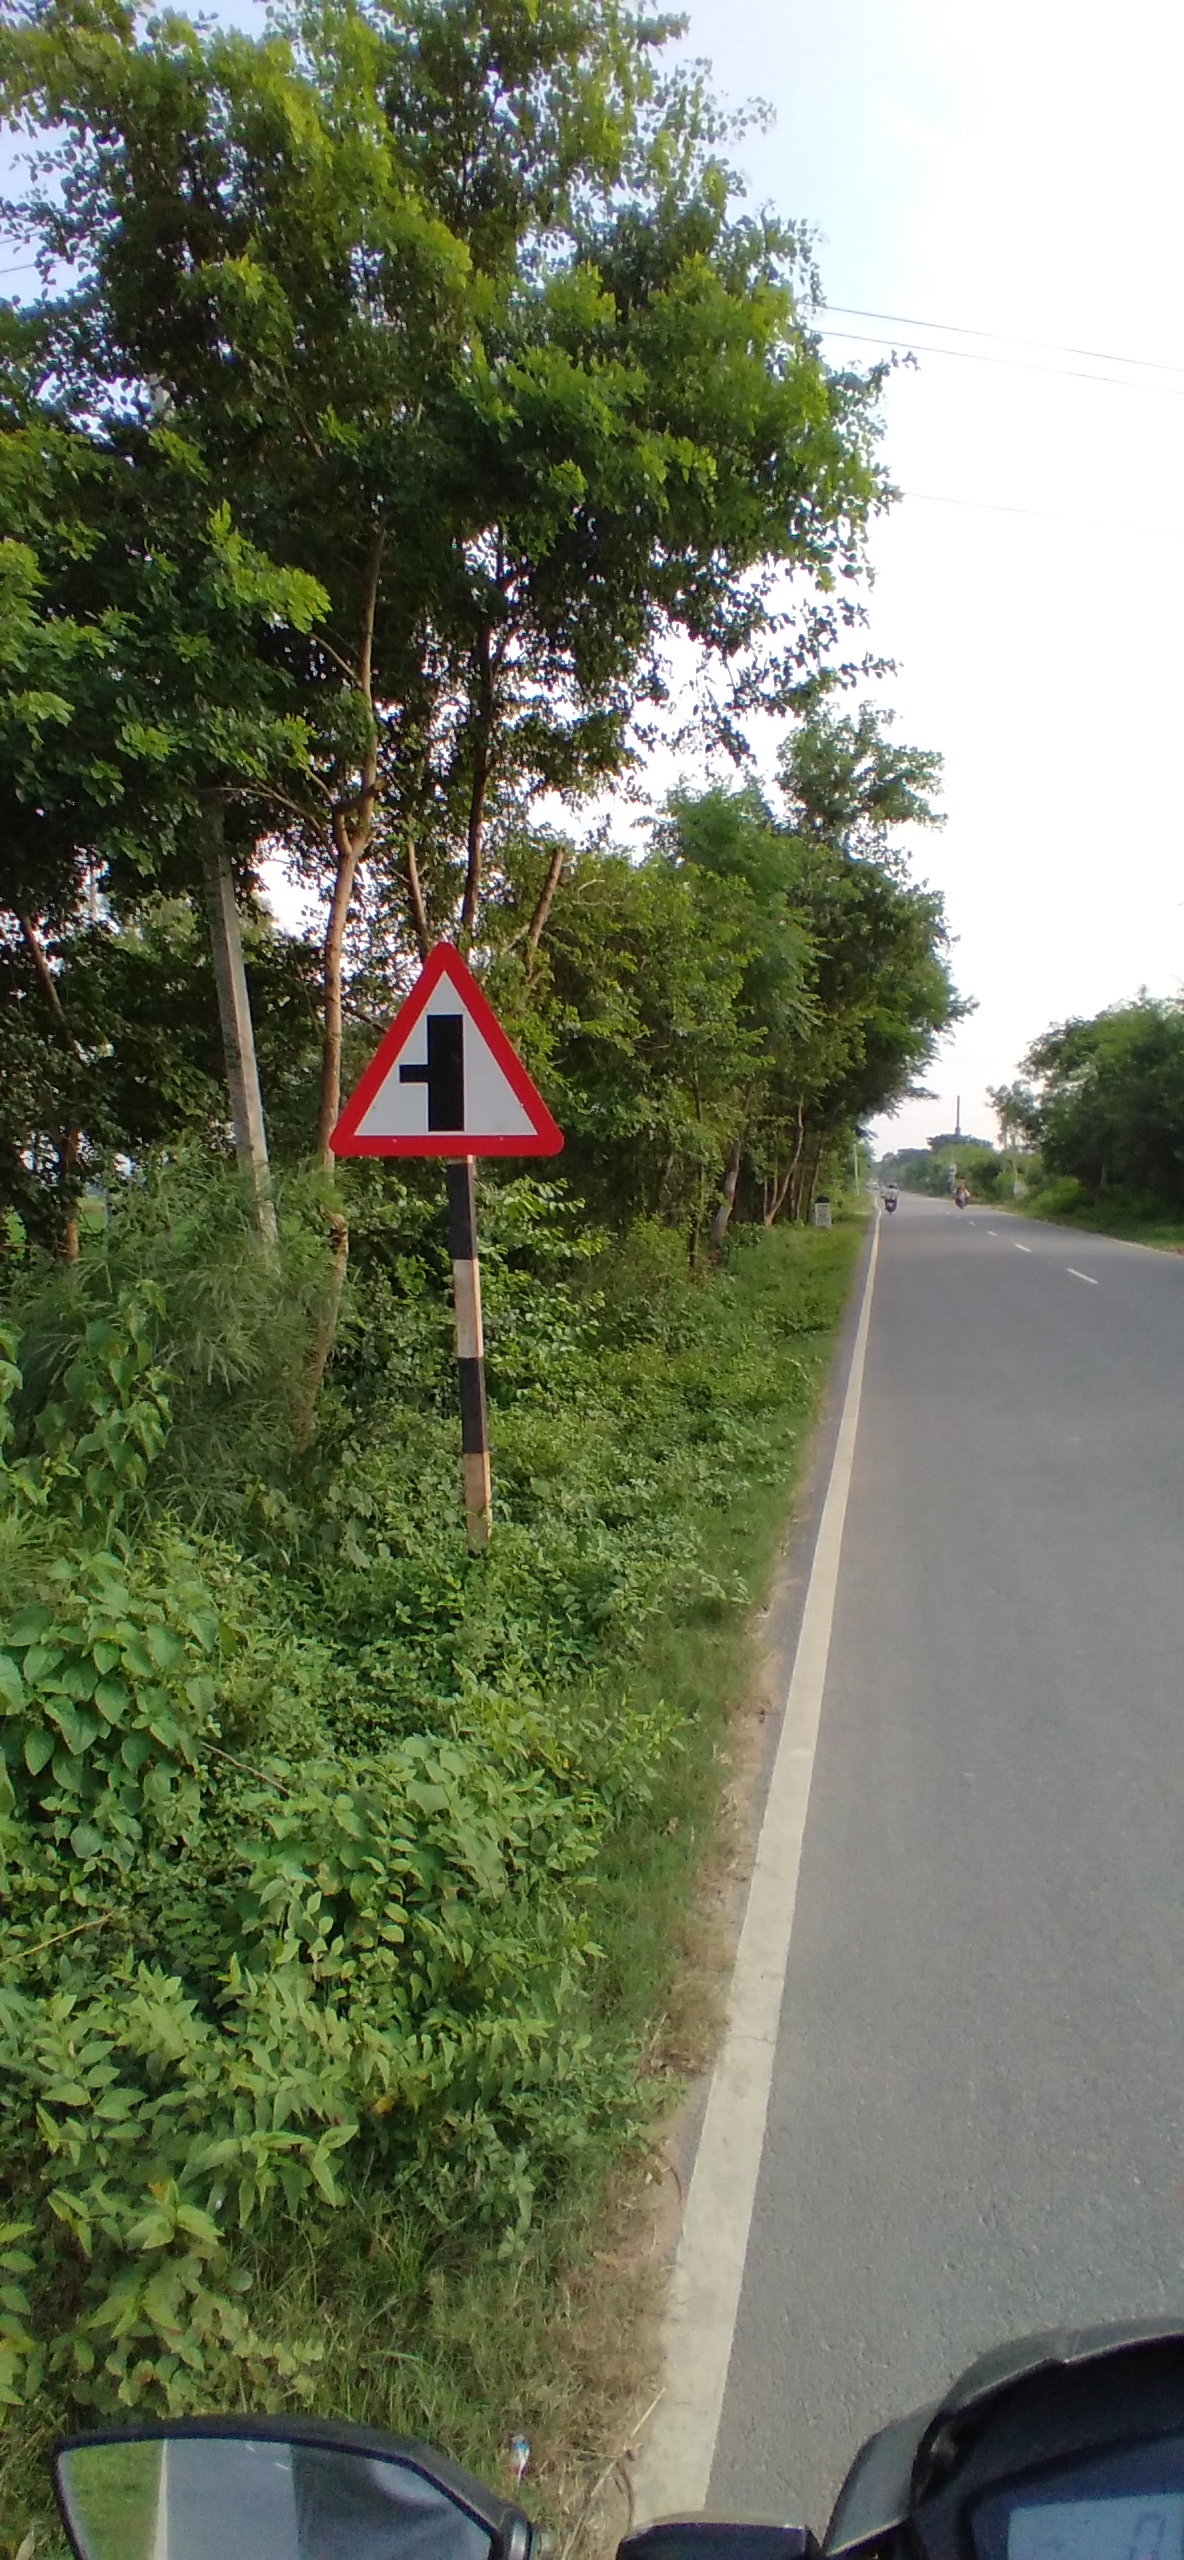traffic_sign: (325, 944, 565, 1156)
